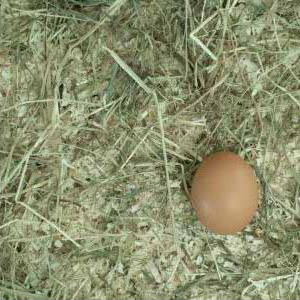egg: (189, 151, 261, 235)
